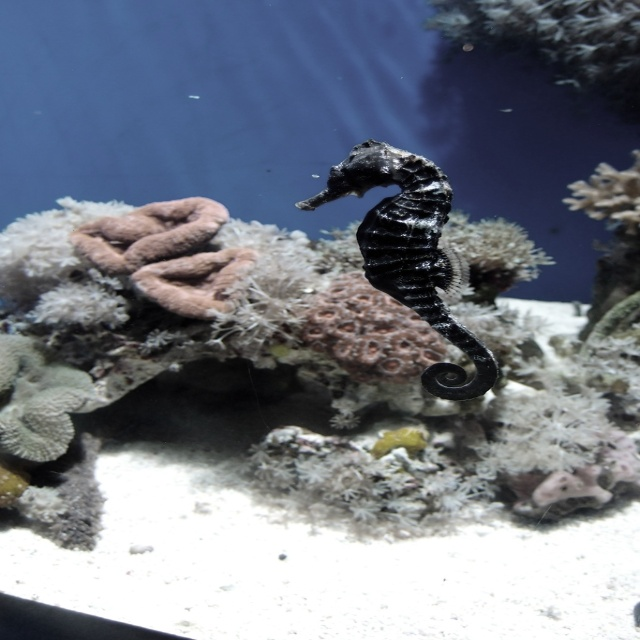Seahorse: (295, 139, 499, 401)
